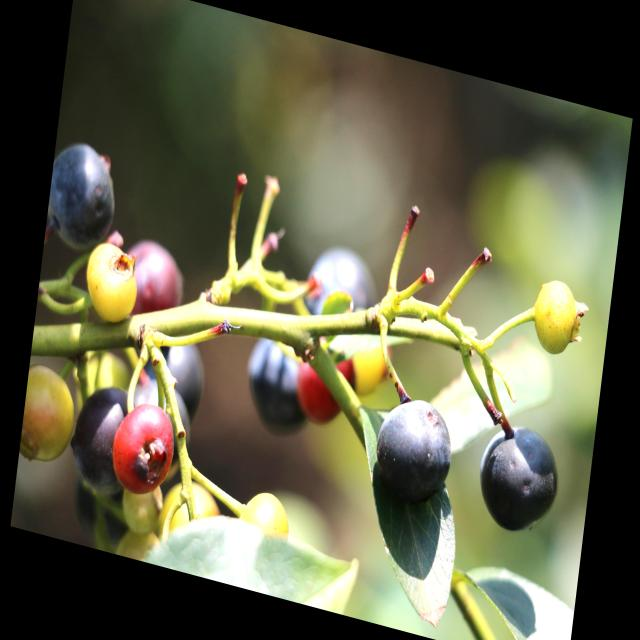blueberry: (364, 384, 460, 521), (471, 412, 567, 547), (237, 313, 326, 451), (44, 129, 124, 262), (300, 232, 391, 344), (63, 372, 139, 497), (136, 318, 214, 424), (124, 372, 200, 476)
blueberry-halfripe: (109, 394, 179, 496), (294, 339, 356, 432)
blueberry-unripe: (18, 357, 81, 473), (153, 468, 221, 556), (81, 236, 142, 328), (526, 270, 585, 364), (237, 483, 294, 552)
